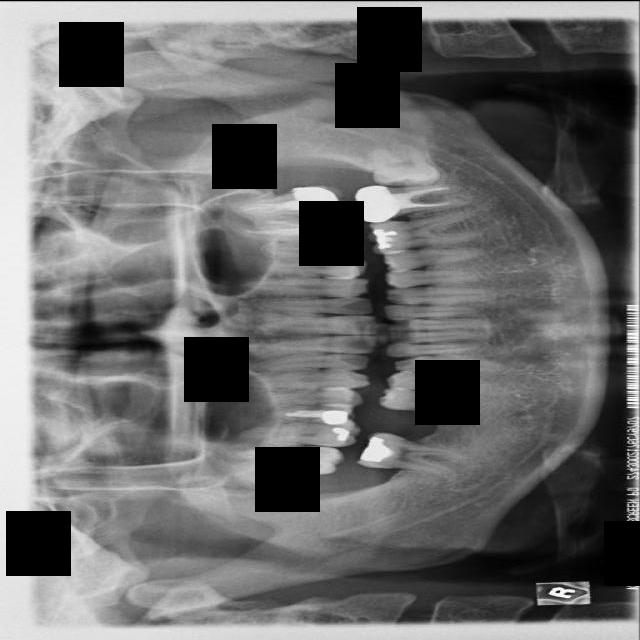3M ESPE Implant: (218, 453, 324, 510)
52: (358, 425, 412, 477), (352, 178, 403, 229), (291, 183, 348, 218), (368, 218, 415, 256), (312, 213, 359, 248), (310, 418, 360, 446), (322, 403, 355, 424)
73: (233, 209, 321, 244), (387, 176, 457, 216), (239, 189, 315, 217), (272, 402, 328, 423), (560, 82, 576, 91)
BioHorizons Implant: (238, 182, 348, 218)
Biomet 3i Implant: (368, 140, 442, 189)
Blue Sky Bio Implant: (353, 173, 458, 225)
Caries: (232, 445, 345, 474)
